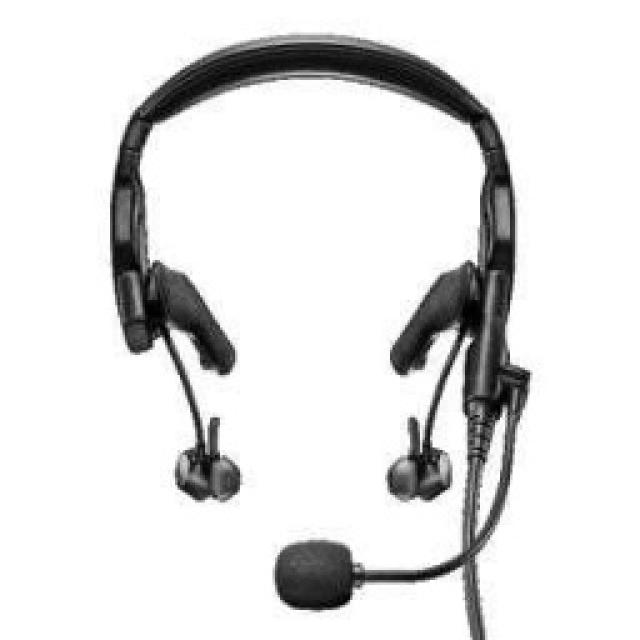headphones: (105, 30, 525, 612)
